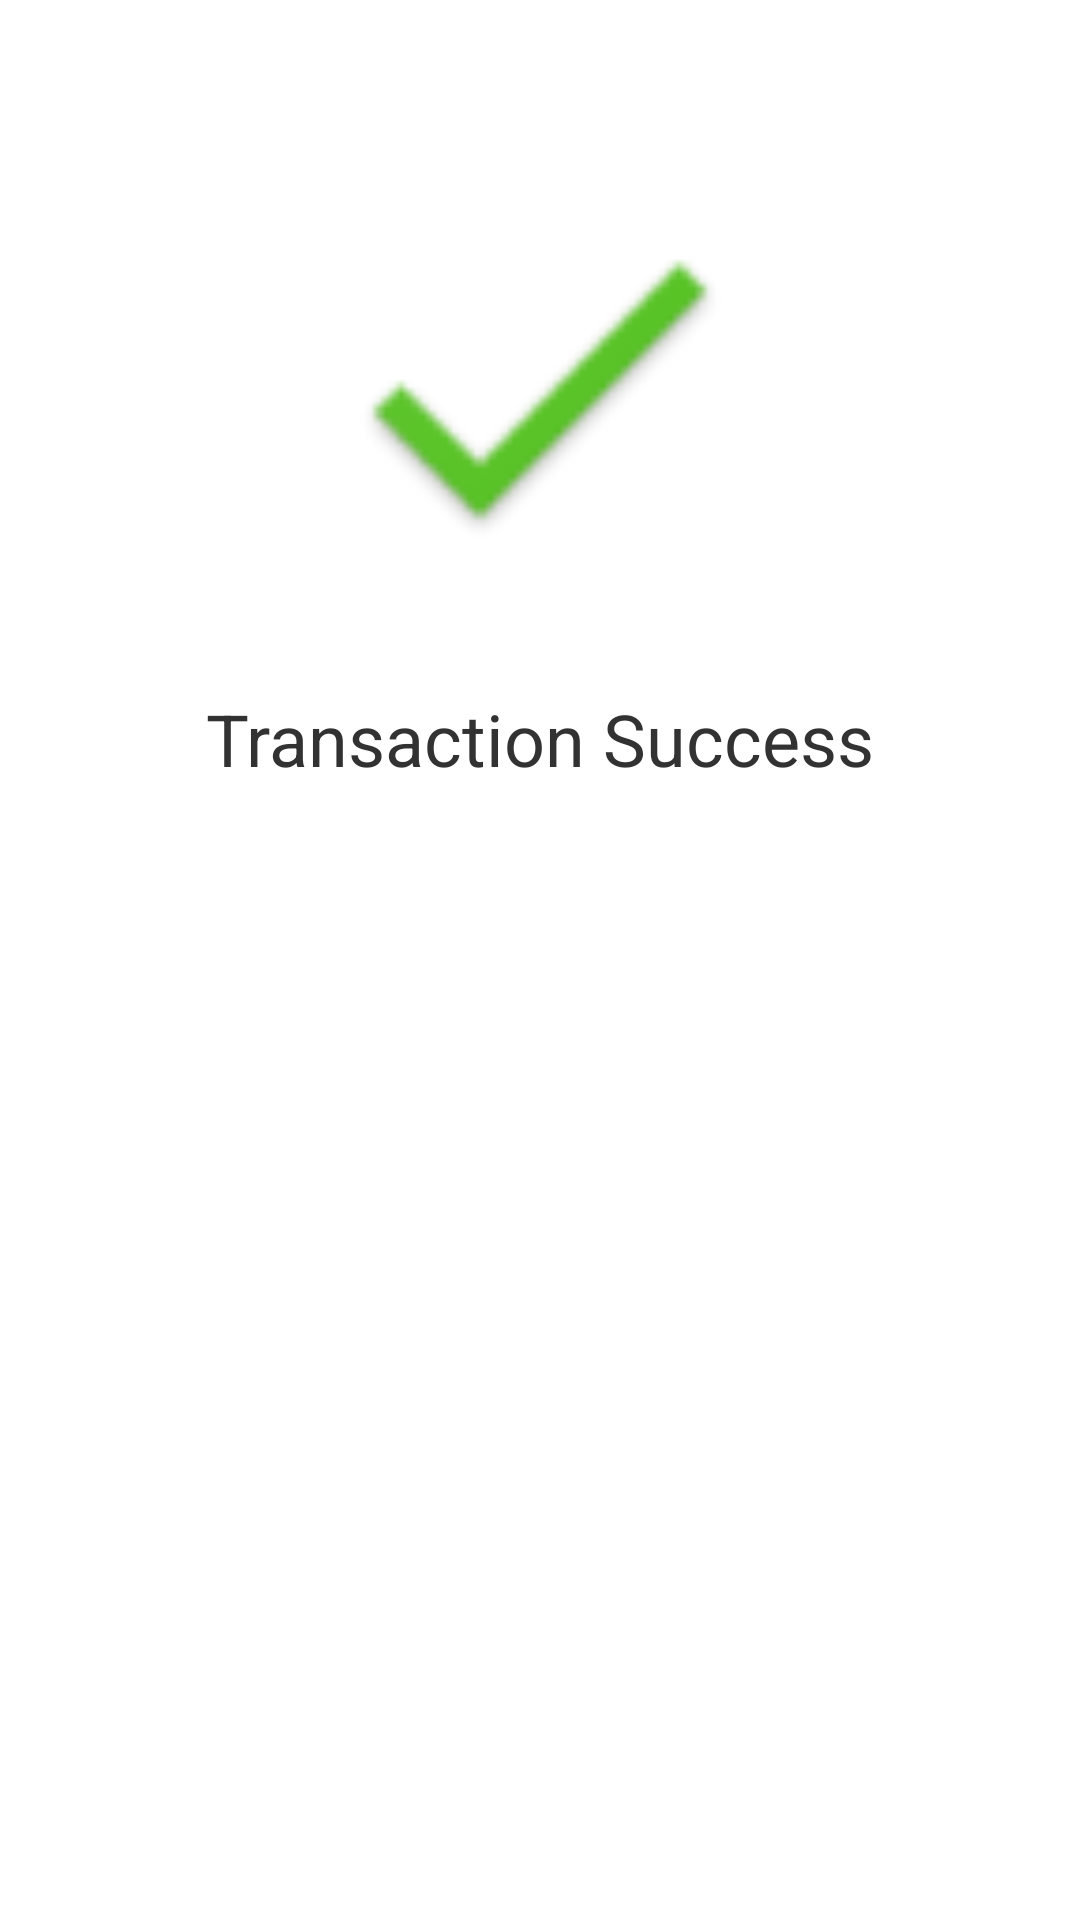

Named icons in this screenshot (1080px x 1920px) and their bounding boxes, (x1, y1, x2, y2):
check marker: (372, 260, 708, 523)
